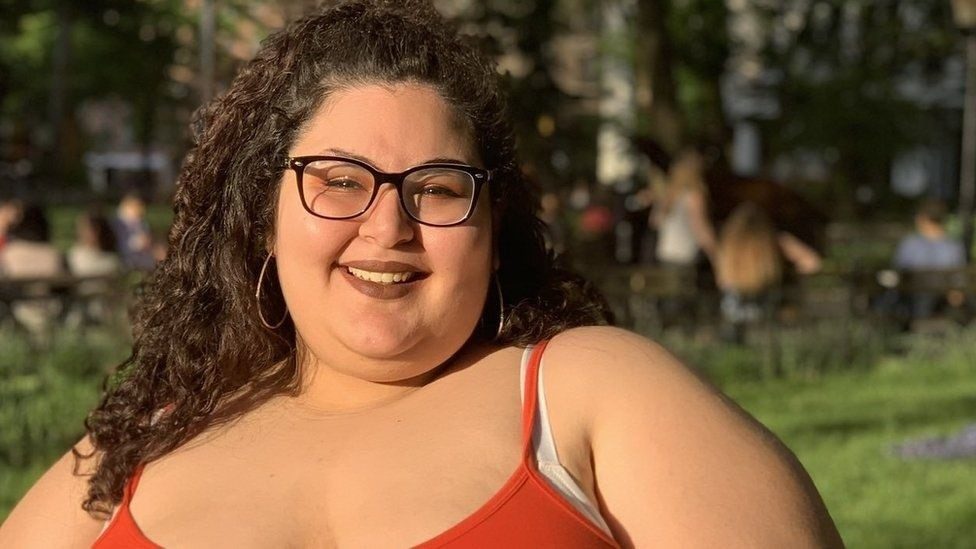face_no_mask: (252, 29, 500, 387)
